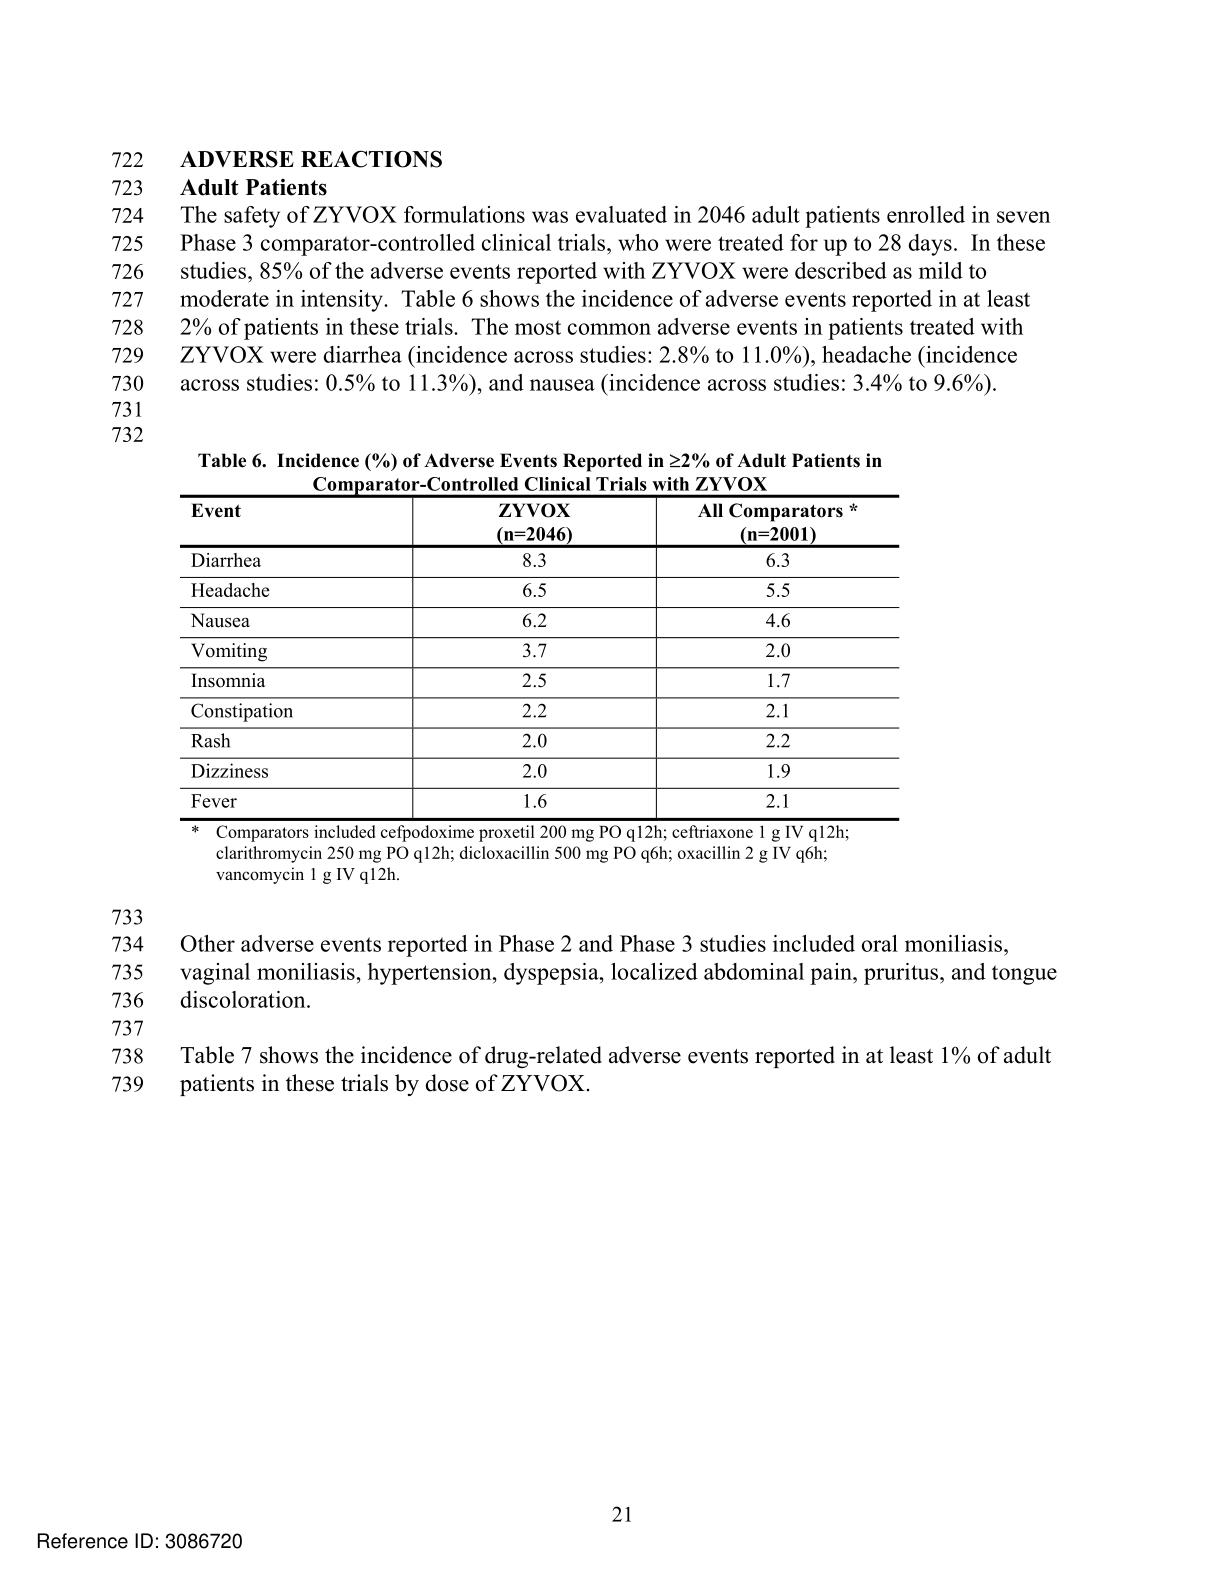partial_lined: (179, 492, 901, 823)
